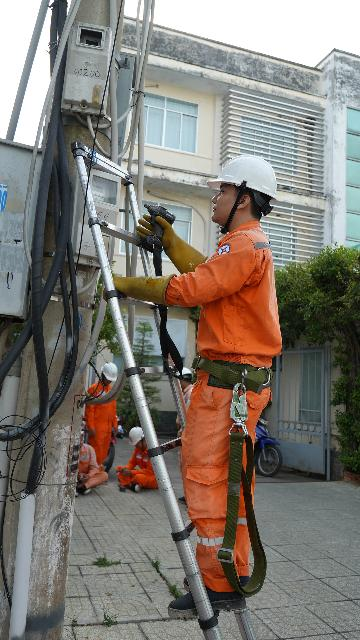gloves: (133, 197, 214, 282), (92, 258, 188, 312)
harness: (182, 337, 302, 406)
helmet: (202, 144, 287, 205)
shoes: (157, 577, 257, 622), (175, 566, 212, 593)
